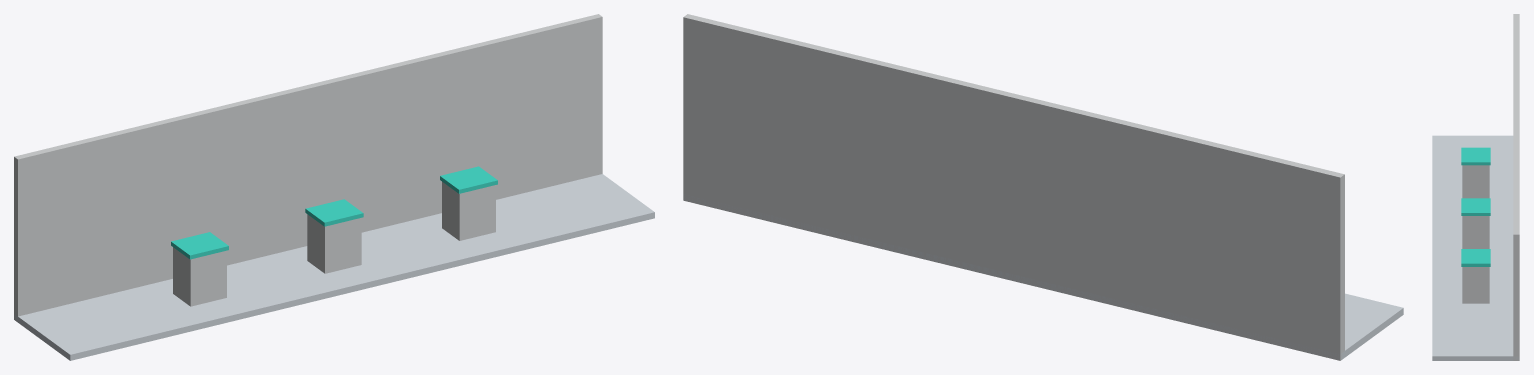
3 renders of one model, left to right at view 1: azimuth 30°, elevation 25°; view 2: azimuth 150°, elevation 25°; view 3: azimuth 270°, elevation 25°, orthographic. The views are drawn at different scales.
Parts seen in each view (by area): view 1: Exhibition Booth Concept; view 2: Exhibition Booth Concept; view 3: Exhibition Booth Concept.
Boxes of the visible parts, <box> form: Exhibition Booth Concept: <box>14,14,654,360</box>; Exhibition Booth Concept: <box>683,14,1403,360</box>; Exhibition Booth Concept: <box>1432,14,1519,360</box>.
Size of the model in its own units: 12 by 3.2 by 2.
